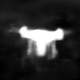plane: (9, 24, 73, 61)
